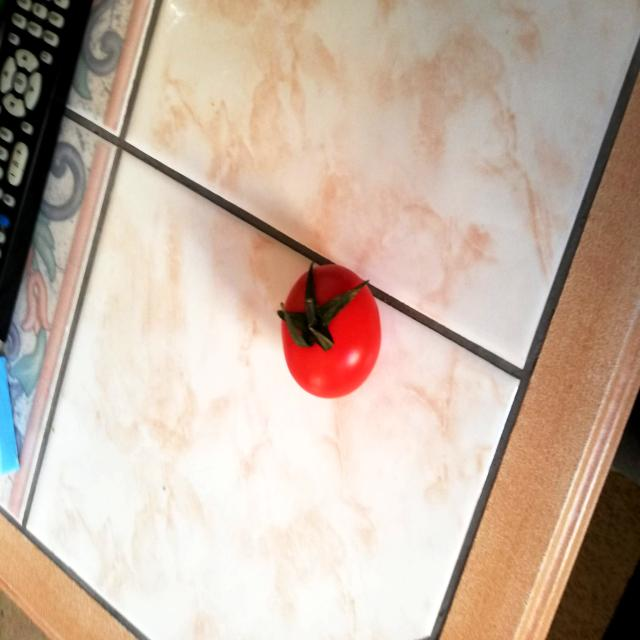tomato: (274, 252, 384, 401)
